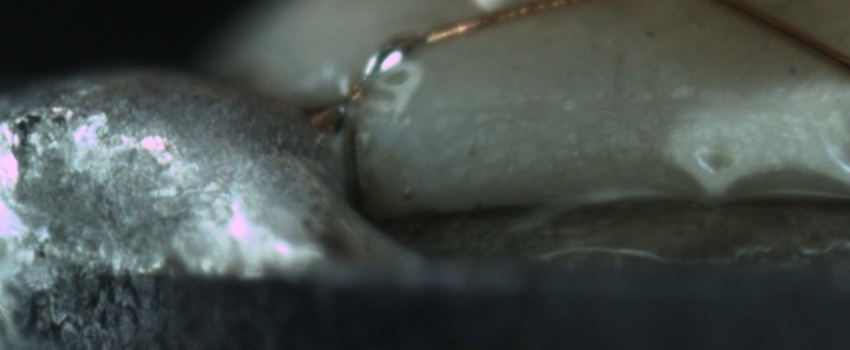DL: (426, 75, 849, 135)
TB: (351, 32, 427, 85)
TTCW: (301, 21, 459, 132)
